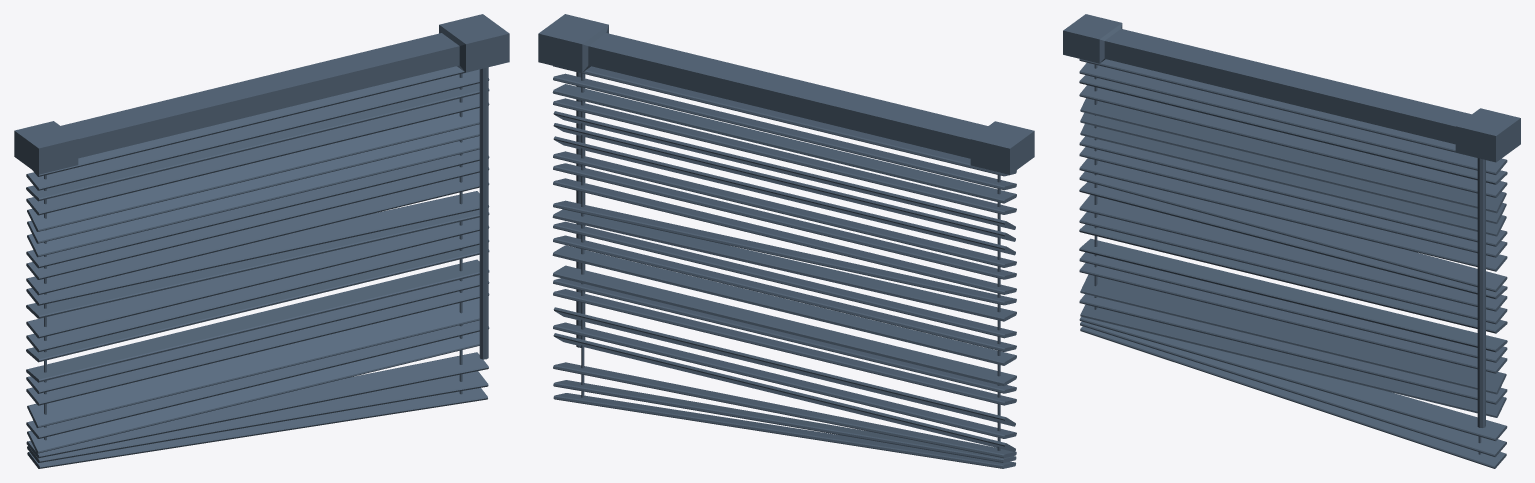
The model's file is Blind Low.fbx.
The picture shows the model from 3 angles, left to right: view 1: azimuth 30°, elevation 25°; view 2: azimuth 150°, elevation 25°; view 3: azimuth 330°, elevation 25°; orthographic projection. The views are drawn at different scales.
Parts seen in each view (by area): view 1: blind_01_low, blind_21_low, blind_15_low, blind_07_low, blind_18_low, blind_13_low, blind_12_low, blind_20_low, blind_06_low, blind_24_low, blind_16_low, blind_03_low (+14 smaller); view 2: blind_01_low, blind_18_low, blind_14_low, blind_04_low, blind_11_low, blind_10_low, blind_12_low, blind_15_low, blind_16_low, blind_06_low, blind_17_low, blind_03_low (+16 smaller); view 3: blind_01_low, blind_21_low, blind_15_low, blind_07_low, blind_13_low, blind_18_low, blind_12_low, blind_24_low, blind_20_low, blind_06_low, blind_16_low, blind_03_low (+14 smaller).
Boxes of the visible parts, left/top/right/bottom form: blind_01_low: left=14, top=14, right=509, bottom=174; blind_21_low: left=27, top=298, right=479, bottom=427; blind_15_low: left=26, top=217, right=489, bottom=338; blind_07_low: left=27, top=108, right=479, bottom=231; blind_18_low: left=26, top=259, right=489, bottom=382; blind_13_low: left=26, top=191, right=489, bottom=305; blind_12_low: left=26, top=172, right=489, bottom=295; blind_20_low: left=27, top=331, right=479, bottom=453; blind_06_low: left=26, top=93, right=489, bottom=215; blind_24_low: left=26, top=352, right=488, bottom=458; blind_16_low: left=26, top=231, right=489, bottom=352; blind_03_low: left=26, top=69, right=489, bottom=190; blind_01_low: left=538, top=14, right=1034, bottom=174; blind_18_low: left=552, top=265, right=1016, bottom=386; blind_14_low: left=552, top=245, right=1016, bottom=365; blind_04_low: left=552, top=84, right=1016, bottom=203; blind_11_low: left=552, top=209, right=1016, bottom=321; blind_10_low: left=553, top=151, right=1016, bottom=267; blind_12_low: left=553, top=178, right=1016, bottom=294; blind_15_low: left=553, top=221, right=1016, bottom=338; blind_16_low: left=553, top=235, right=1016, bottom=351; blind_06_low: left=553, top=98, right=1016, bottom=214; blind_17_low: left=553, top=289, right=1016, bottom=405; blind_03_low: left=553, top=73, right=1016, bottom=190; blind_01_low: left=1063, top=14, right=1520, bottom=162; blind_21_low: left=1080, top=274, right=1506, bottom=394; blind_15_low: left=1079, top=194, right=1507, bottom=311; blind_07_low: left=1080, top=98, right=1506, bottom=213; blind_13_low: left=1079, top=171, right=1507, bottom=292; blind_18_low: left=1079, top=238, right=1507, bottom=352; blind_12_low: left=1079, top=158, right=1507, bottom=271; blind_24_low: left=1079, top=317, right=1507, bottom=441; blind_20_low: left=1080, top=304, right=1506, bottom=417; blind_06_low: left=1079, top=85, right=1507, bottom=197; blind_16_low: left=1079, top=212, right=1507, bottom=324; blind_03_low: left=1079, top=62, right=1507, bottom=174.
Size of the model in its own units: 195 by 147 by 19.24.
